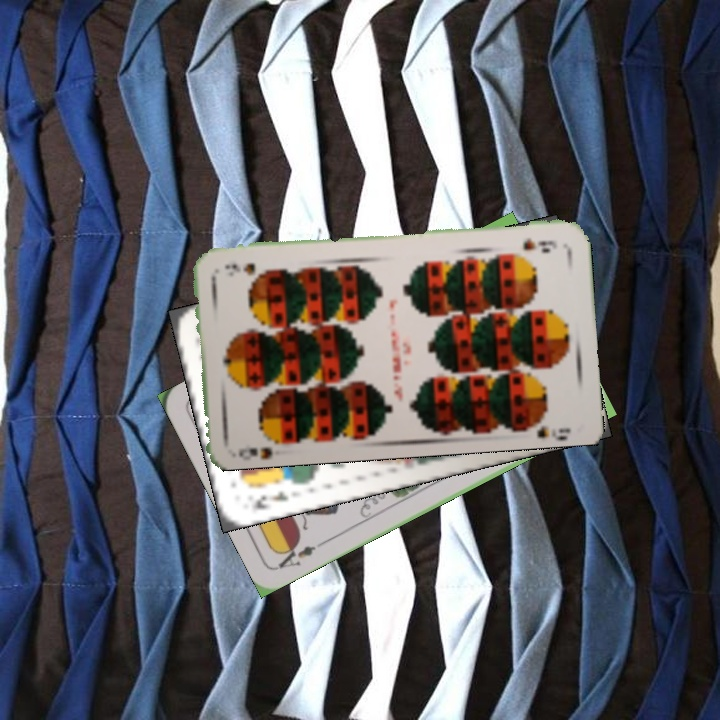EA: (273, 537, 327, 571)
EK: (248, 486, 292, 513)
S9: (235, 432, 287, 460), (519, 234, 559, 253)
